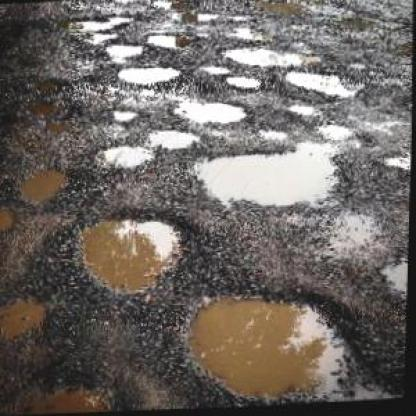pothole: (183, 283, 369, 406), (187, 143, 352, 218), (76, 208, 189, 295), (7, 360, 148, 414), (0, 281, 62, 341), (219, 40, 322, 72), (281, 66, 362, 100), (17, 161, 76, 205), (62, 11, 139, 44), (172, 94, 251, 125), (94, 141, 158, 172), (119, 60, 183, 84), (146, 126, 204, 151), (140, 30, 196, 50), (103, 40, 144, 58), (227, 75, 262, 91), (0, 204, 18, 229), (112, 107, 139, 123)
